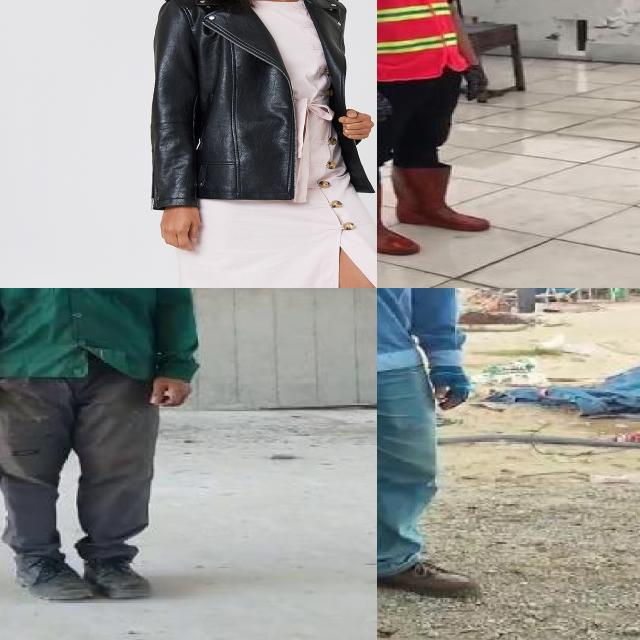boots: (395, 161, 493, 231), (377, 177, 423, 258)
hand_glove: (423, 364, 472, 412), (454, 65, 489, 105), (377, 89, 395, 126)
hand_noglove: (148, 374, 197, 414)
person: (0, 288, 206, 624), (377, 0, 529, 264), (377, 288, 473, 610)
shoes: (6, 541, 99, 609), (377, 542, 483, 601), (76, 540, 152, 602)
vest: (377, 0, 466, 82)
